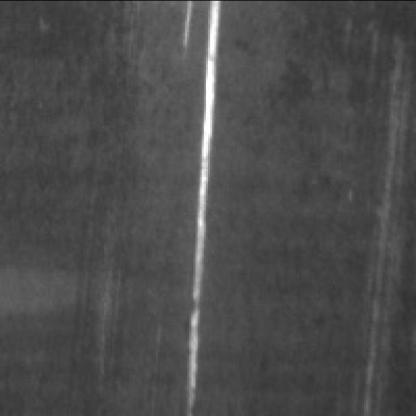scratches: (168, 4, 220, 414), (362, 44, 408, 349)
